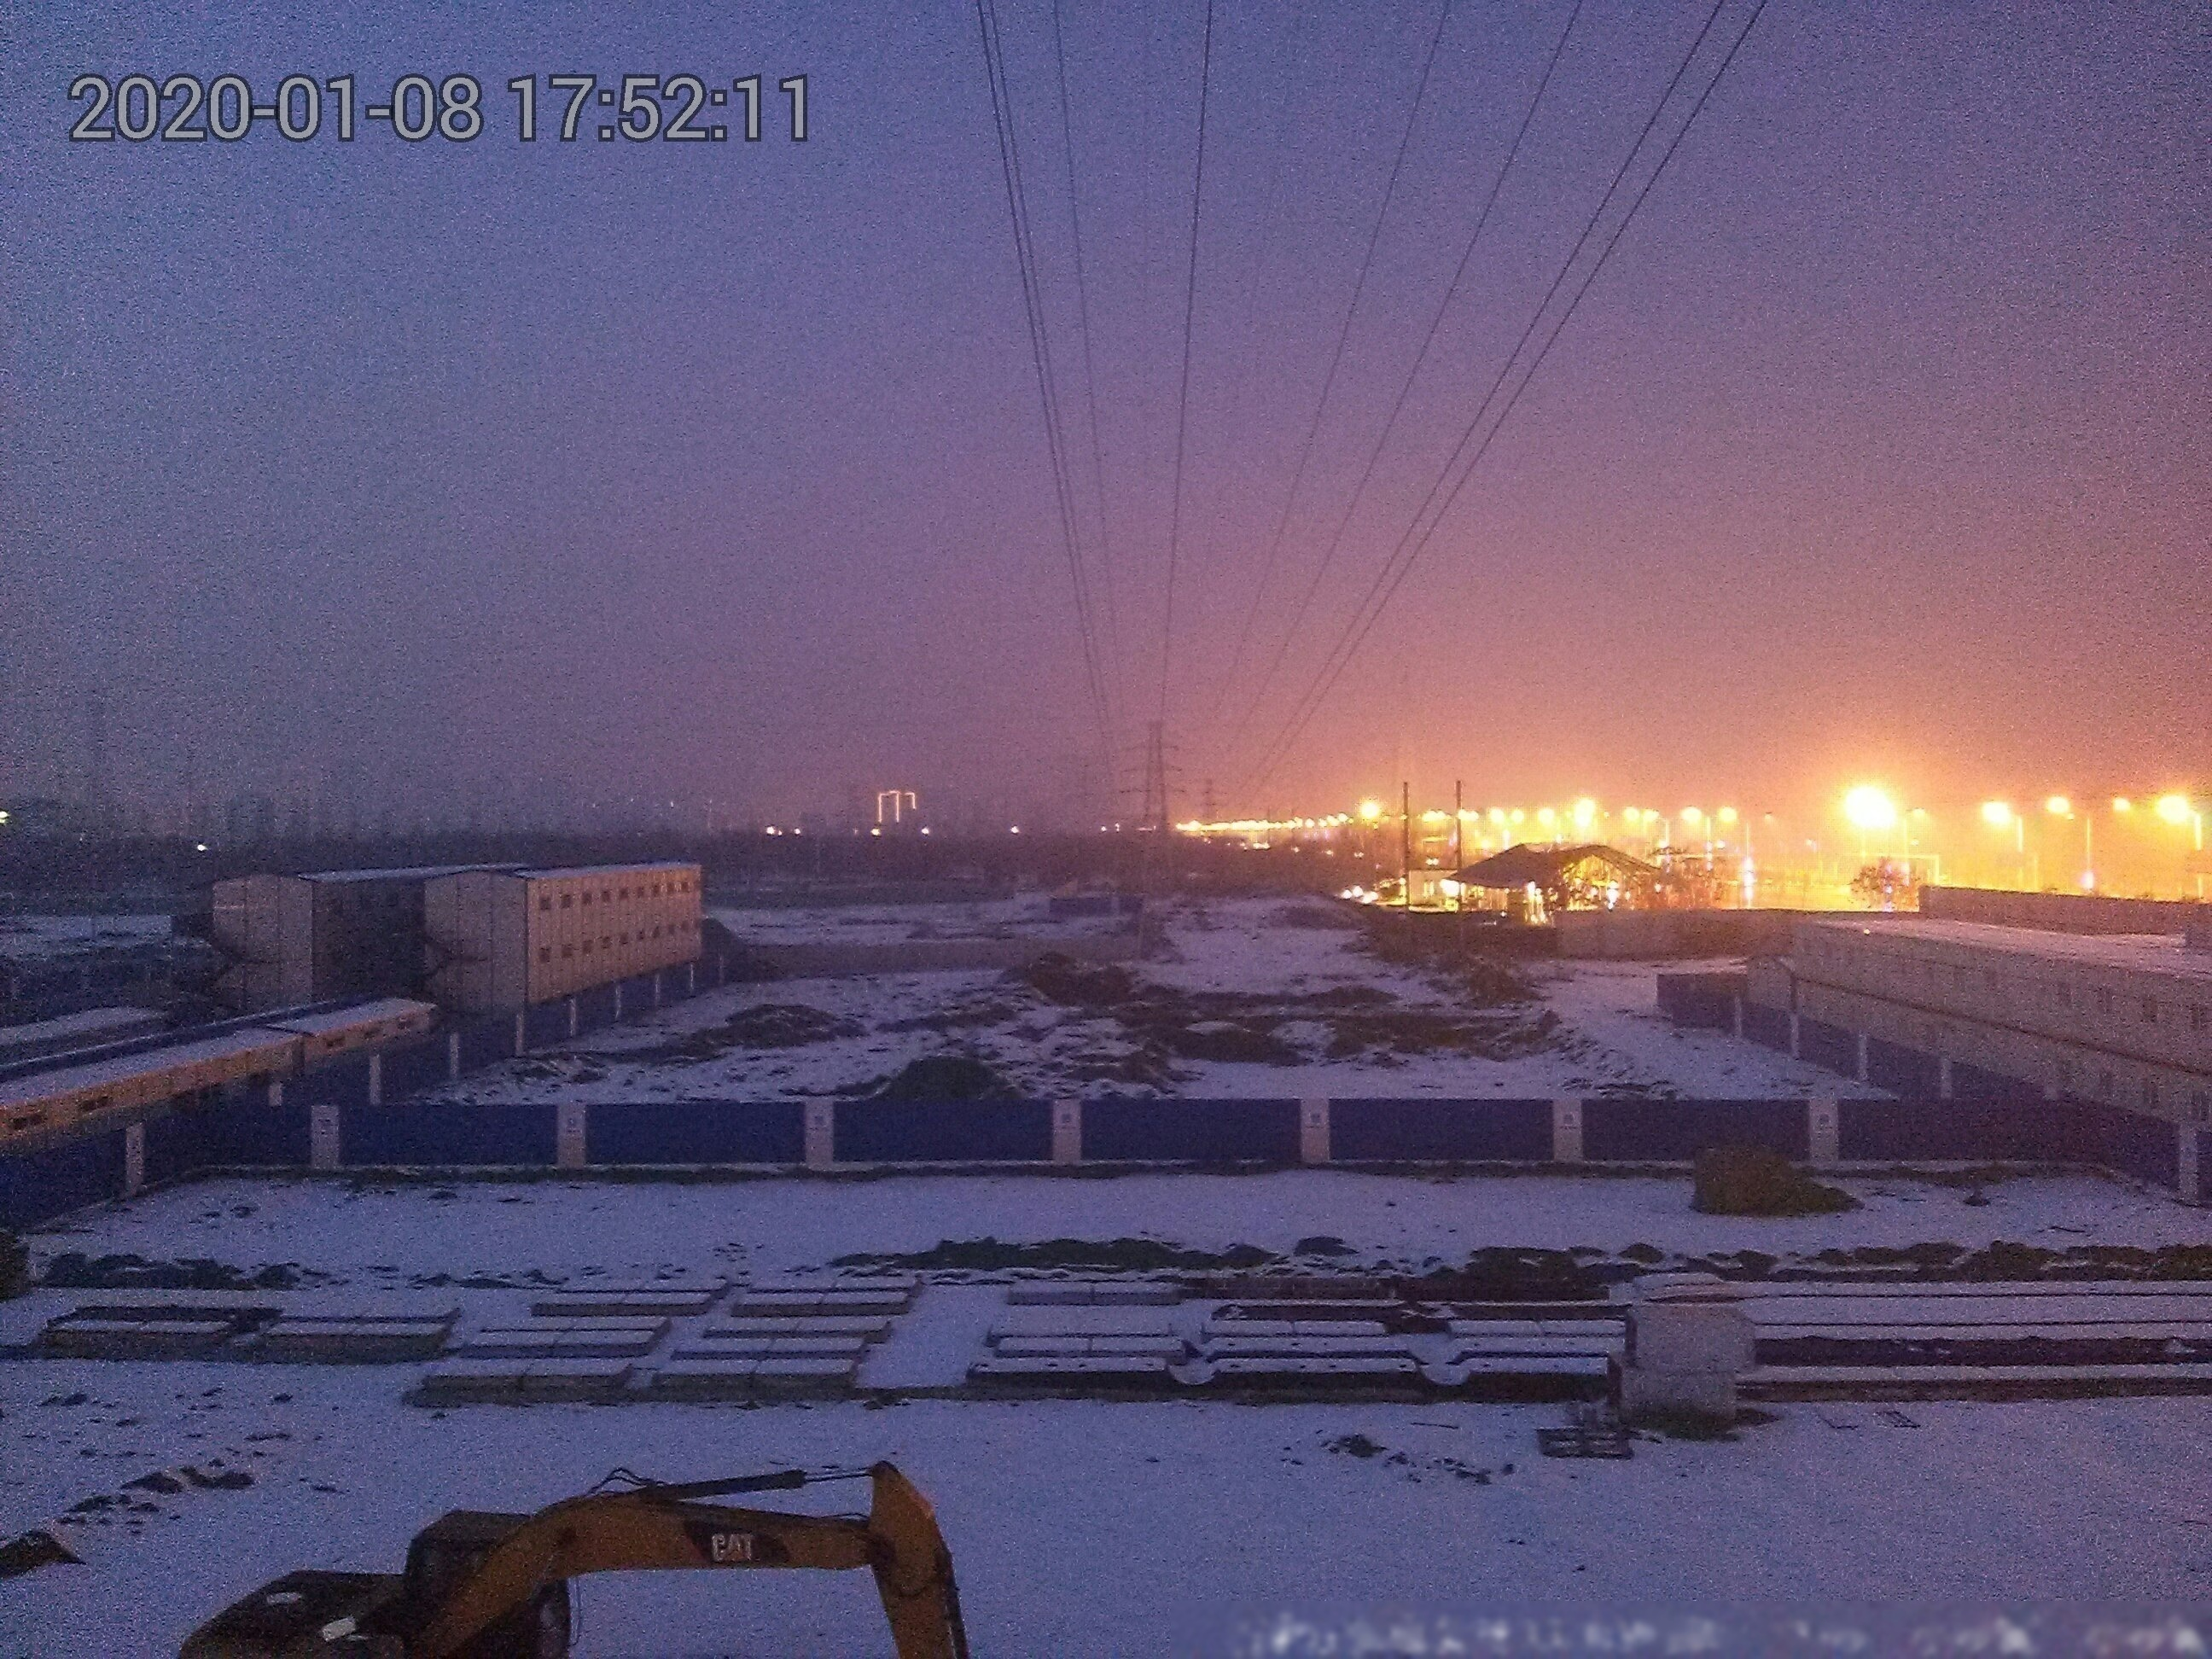gouche: (165, 1455, 958, 1649)
